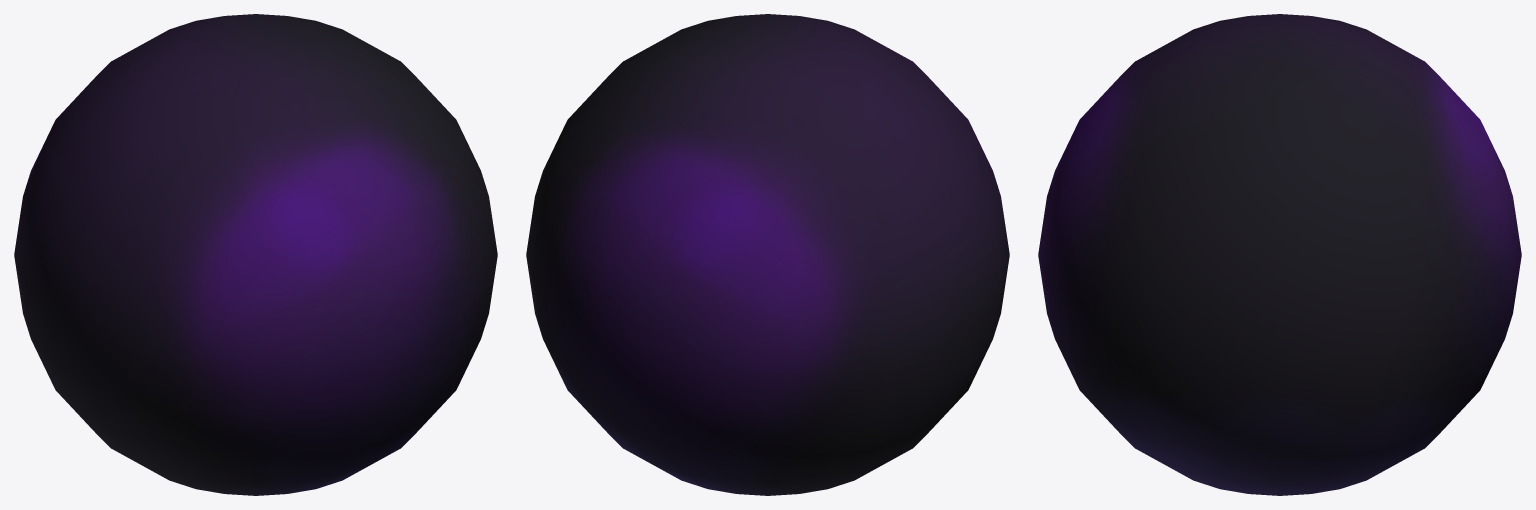
File: BossBead.fbx
3 renders of one model, left to right at view 1: azimuth 30°, elevation 25°; view 2: azimuth 150°, elevation 25°; view 3: azimuth 270°, elevation 25°, orthographic.
Visible parts, largest first — view 1: BossBead; view 2: BossBead; view 3: BossBead.
Boxes of the visible parts, bbox=[...] form: BossBead: bbox=[14, 14, 497, 495]; BossBead: bbox=[526, 14, 1009, 495]; BossBead: bbox=[1038, 14, 1521, 495].
Bounding box in the file's own units: 110 × 110 × 110.
1 material, 1 textured.
